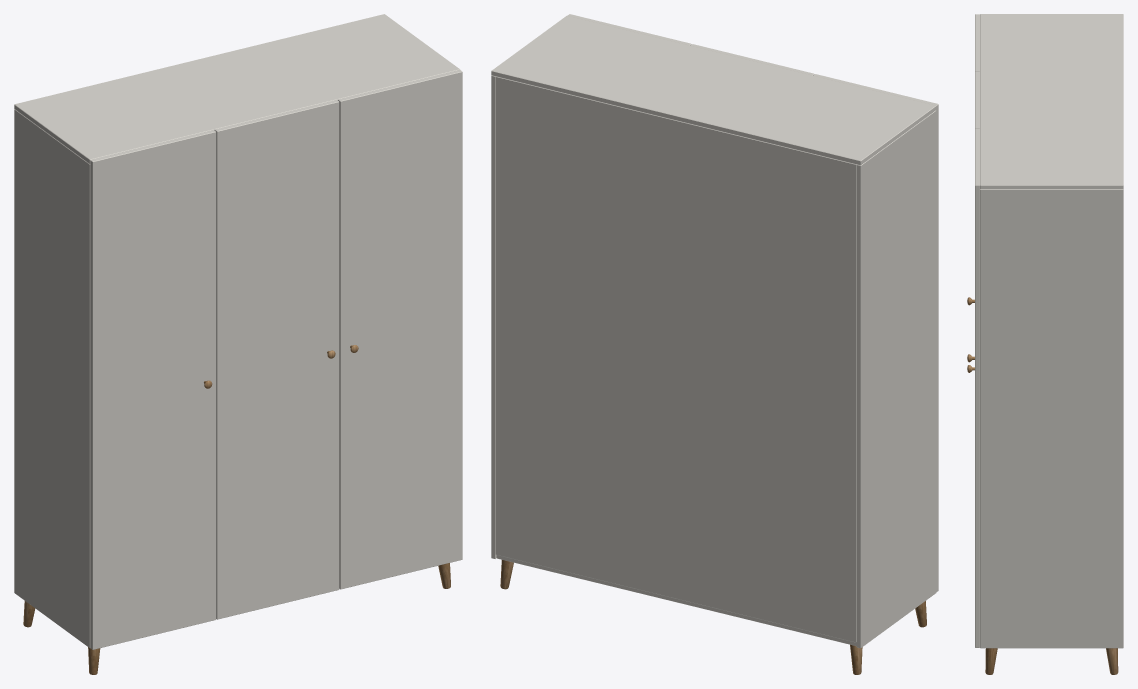
Rendered from armario_nordico_3p_150.glb.
3 views of the same model, side by side, from view 1: azimuth 30°, elevation 25°; view 2: azimuth 150°, elevation 25°; view 3: azimuth 270°, elevation 25° (orthographic). The views are drawn at different scales.
Parts seen in each view (by area): view 1: armario_nordico_3p_150; view 2: armario_nordico_3p_150; view 3: armario_nordico_3p_150.
Boxes of the visible parts, x1=… form: armario_nordico_3p_150: x1=14, y1=14, x2=462, y2=674; armario_nordico_3p_150: x1=491, y1=14, x2=938, y2=674; armario_nordico_3p_150: x1=967, y1=14, x2=1123, y2=674.
Bounding box in the file's own units: 1.5 × 2.01 × 0.578.
2 materials, 1 textured.
